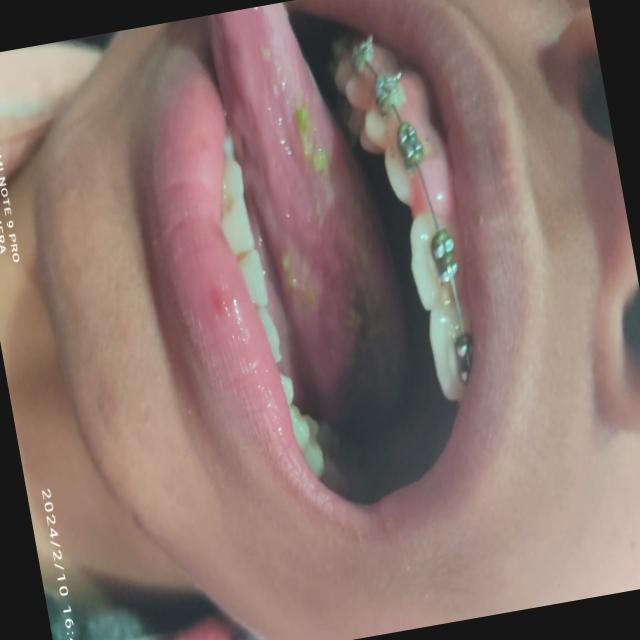No Cancer: (228, 3, 372, 400)
